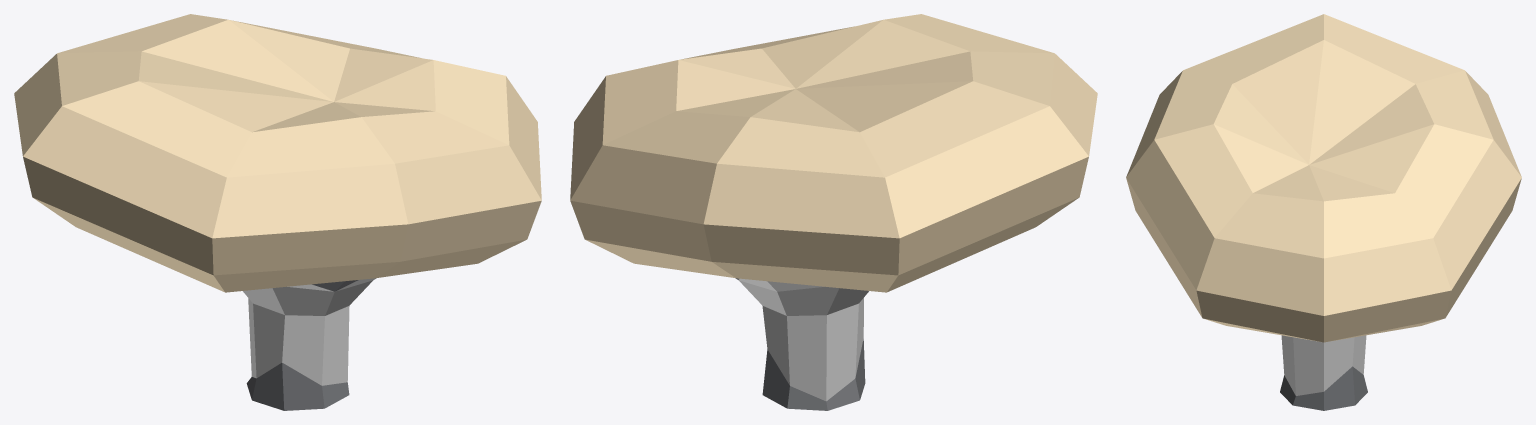
File: milk_mushroom.fbx
The picture shows the model from 3 angles, left to right: view 1: azimuth 30°, elevation 25°; view 2: azimuth 150°, elevation 25°; view 3: azimuth 270°, elevation 25°; orthographic projection. The views are drawn at different scales.
Visible parts, largest first — view 1: milk_mushroom; view 2: milk_mushroom; view 3: milk_mushroom.
Boxes of the visible parts, bbox=[...] form: milk_mushroom: bbox=[14, 14, 541, 410]; milk_mushroom: bbox=[570, 14, 1097, 410]; milk_mushroom: bbox=[1126, 14, 1521, 410].
Bounding box in the file's own units: 46.24 × 29.78 × 37.11.
1 material, 1 textured.
